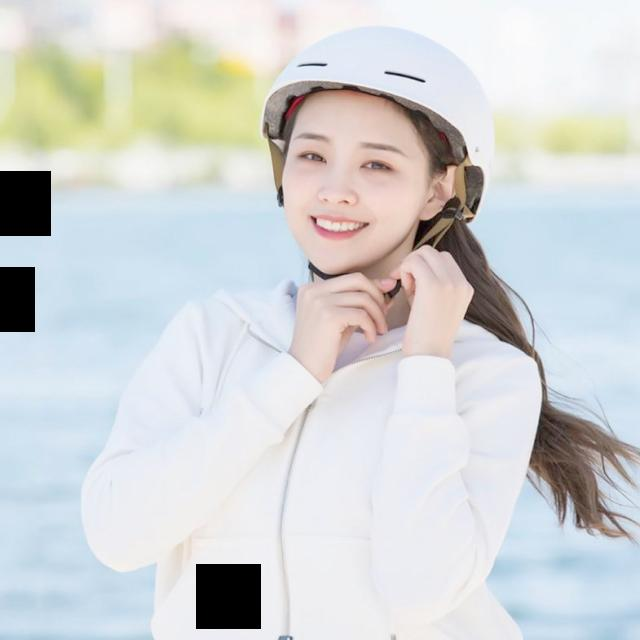Helmet: (259, 23, 496, 275)
